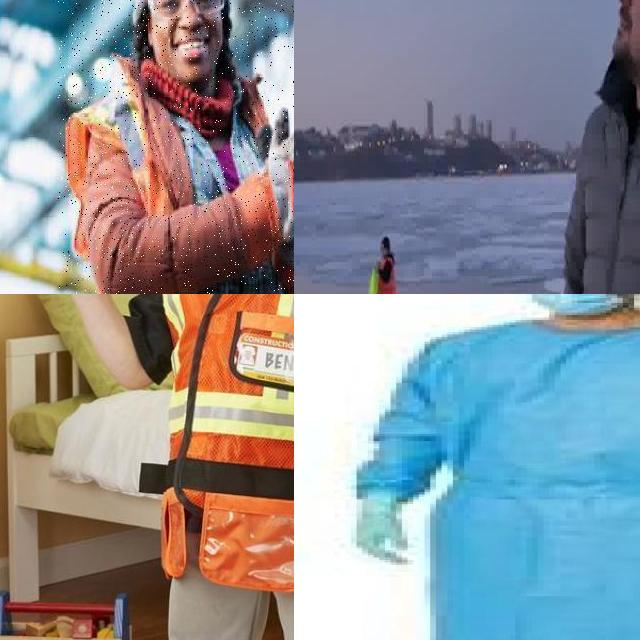GLASS: (145, 0, 228, 18)
GLOVE: (259, 104, 294, 244)
Glove: (334, 501, 424, 569)
MASK: (520, 294, 629, 316)
VEST: (65, 80, 294, 294), (159, 294, 294, 590), (376, 256, 396, 294), (368, 266, 378, 294)
